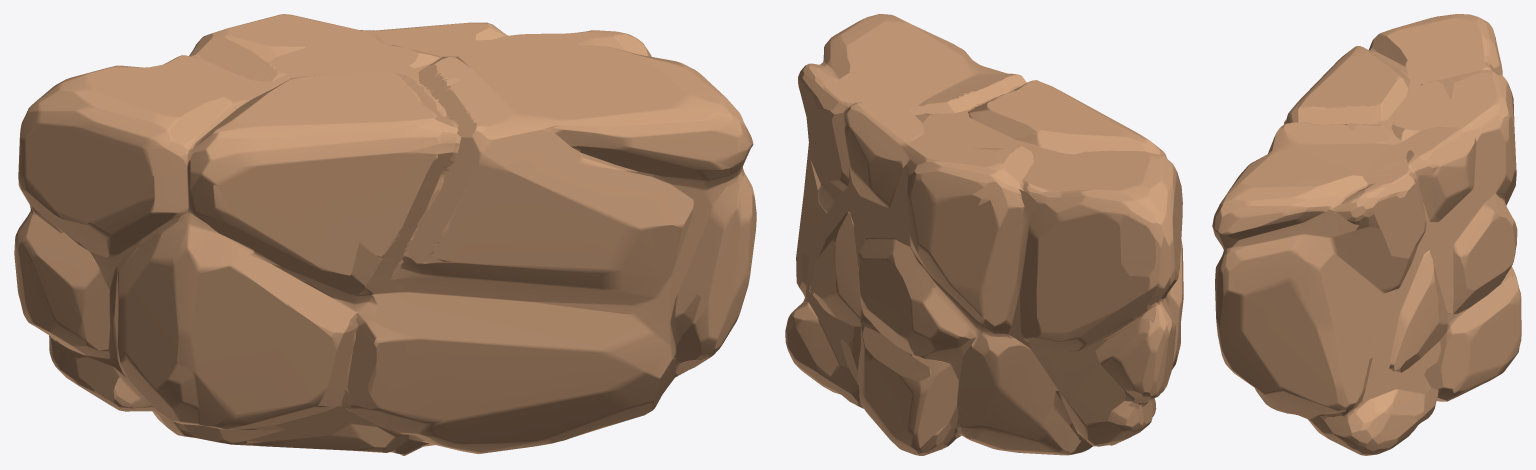
3 renders of one model, left to right at view 1: azimuth 30°, elevation 25°; view 2: azimuth 150°, elevation 25°; view 3: azimuth 270°, elevation 25°, orthographic. The views are drawn at different scales.
Visible parts, largest first — view 1: Mesh_68_LOD0; view 2: Mesh_68_LOD0; view 3: Mesh_68_LOD0.
Boxes of the visible parts, <box> form: Mesh_68_LOD0: <box>14,14,756,455</box>; Mesh_68_LOD0: <box>785,14,1183,455</box>; Mesh_68_LOD0: <box>1212,14,1521,455</box>.
Size of what is drawn, in the model's own units: 2530 by 1681 by 1684.
